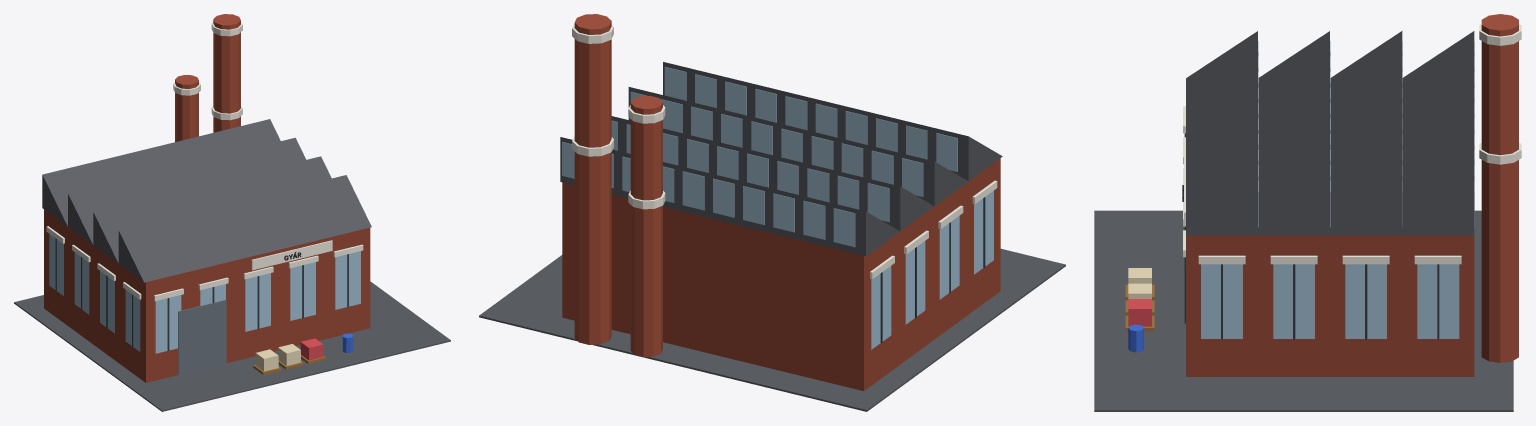
File: Sanayi_fabrika_1_Hafif.fbx
The picture shows the model from 3 angles, left to right: view 1: azimuth 30°, elevation 25°; view 2: azimuth 150°, elevation 25°; view 3: azimuth 270°, elevation 25°; orthographic projection. The views are drawn at different scales.
Parts seen in each view (by area): view 1: Sanayi_fabrika_1_Hafif; view 2: Sanayi_fabrika_1_Hafif; view 3: Sanayi_fabrika_1_Hafif.
Part boxes in pixels (x1,y1,x2,y2): Sanayi_fabrika_1_Hafif: (14,14,450,411); Sanayi_fabrika_1_Hafif: (479,14,1065,411); Sanayi_fabrika_1_Hafif: (1094,14,1521,411).
Bounding box in the file's own units: 18 × 14.08 × 16.31.
